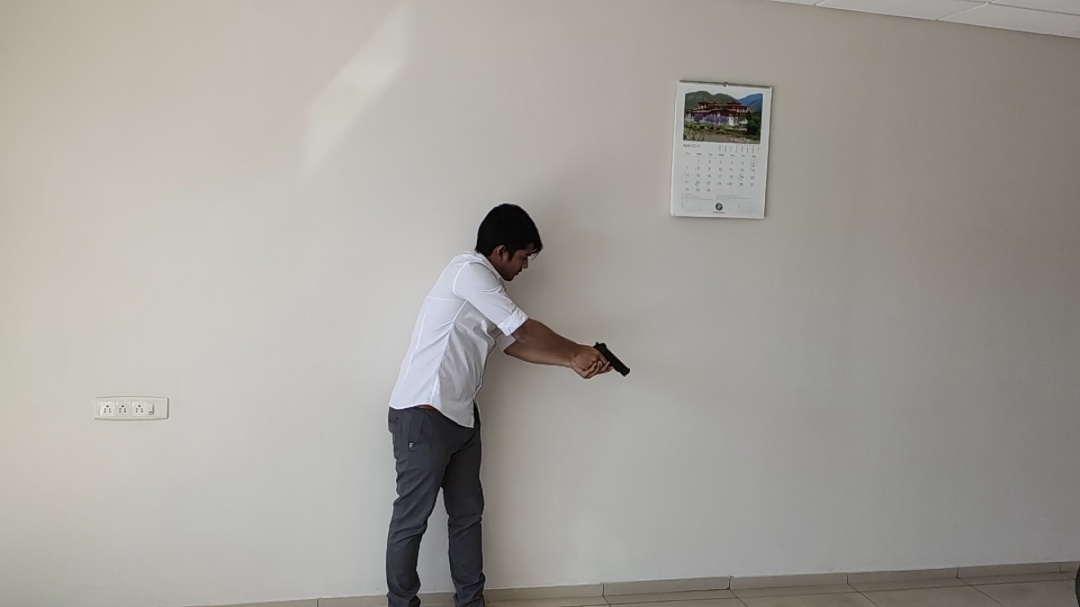gun: (593, 341, 631, 378)
